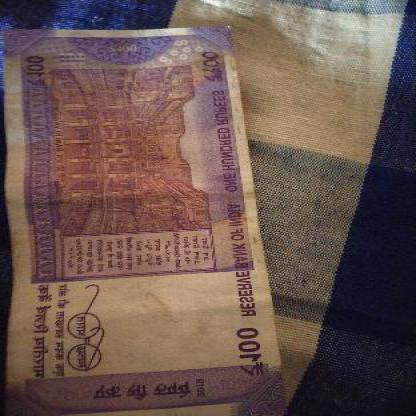New100Back: (7, 32, 278, 414)
